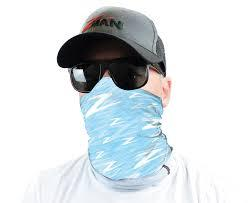cap: (52, 4, 194, 76)
scarf-kerchief: (77, 73, 179, 185)
sunglasses: (63, 52, 159, 96)
